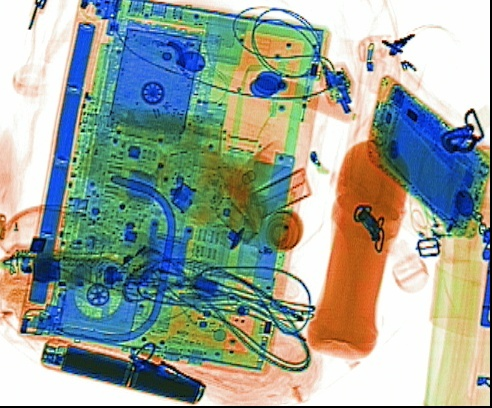powerbank: (37, 337, 207, 403)
